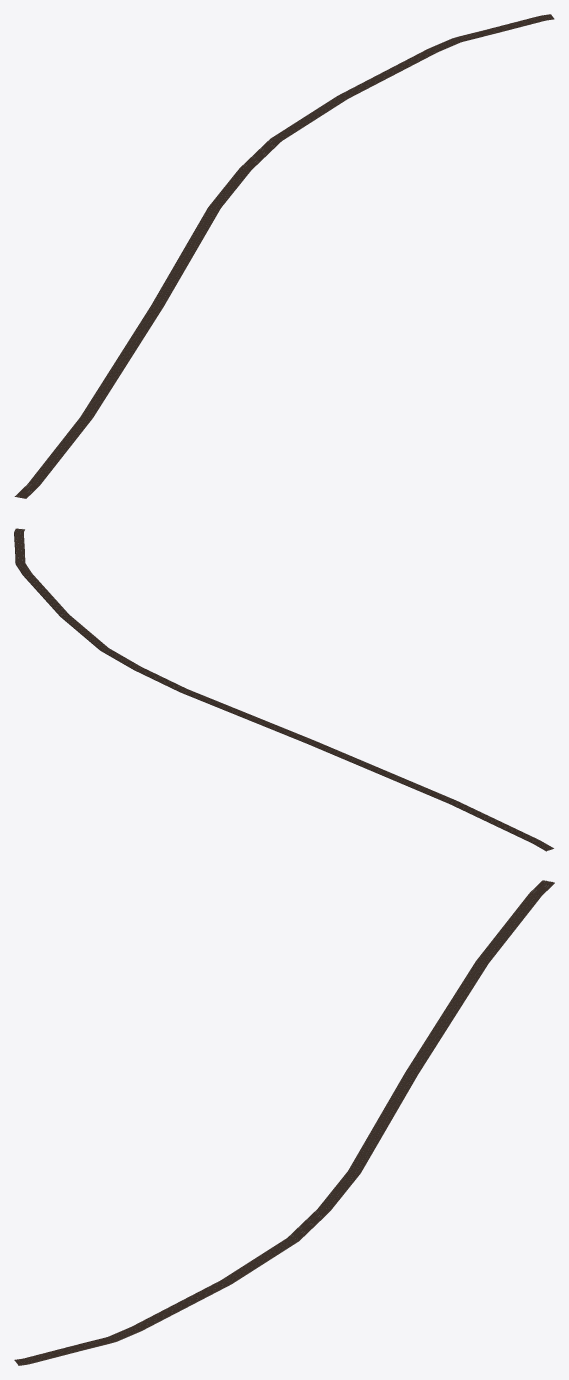
The model's file is kobe_0001.glb.
The picture shows the model from 3 angles, top to bottom: view 1: azimuth 90°, elevation 25°; view 2: azimuth 150°, elevation 25°; view 3: azimuth 270°, elevation 25°; orthographic projection. The views are drawn at different scales.
Parts seen in each view (by area): view 1: ballast_top, oxidised_rail_profiles; view 2: ballast_top, oxidised_rail_profiles, ballast_left; view 3: ballast_top, oxidised_rail_profiles, ballast_left.
Boxes of the visible parts, left/top/right/bottom form: ballast_top: left=14, top=14, right=554, bottom=498; oxidised_rail_profiles: left=16, top=14, right=553, bottom=497; ballast_top: left=14, top=528, right=553, bottom=850; oxidised_rail_profiles: left=15, top=529, right=552, bottom=849; ballast_left: left=14, top=531, right=546, bottom=851; ballast_top: left=14, top=880, right=553, bottom=1364; oxidised_rail_profiles: left=15, top=881, right=552, bottom=1363; ballast_left: left=18, top=882, right=554, bottom=1365.
Size of the model in its own units: 667 by 0.819 by 314.
Materials: 4 (3 with a texture image).
